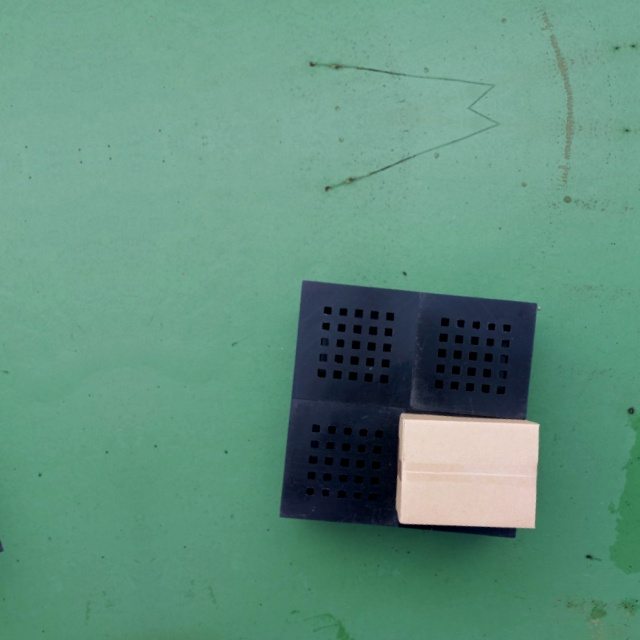box: (394, 411, 543, 532)
pallet: (270, 273, 546, 543)
